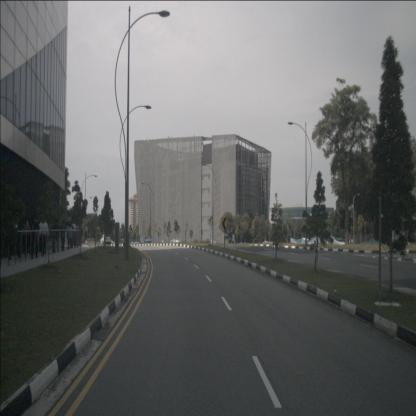human-pedestrian-adult: (30, 216, 38, 260), (40, 218, 48, 255), (23, 220, 30, 257), (50, 219, 56, 254), (61, 220, 66, 254), (67, 224, 73, 252), (75, 222, 80, 248), (72, 220, 77, 245)
vehicle-car: (100, 234, 111, 246), (140, 236, 151, 245)
